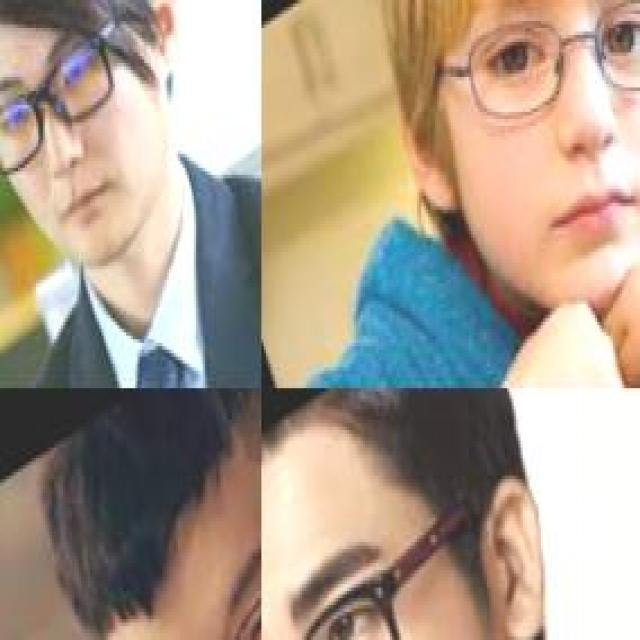Glasses: (426, 0, 638, 210), (261, 486, 496, 637), (0, 0, 155, 203), (104, 448, 259, 636)
